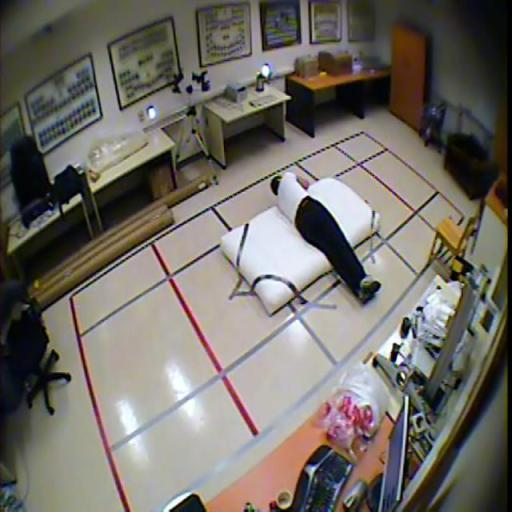Fall: (269, 170, 382, 303)
